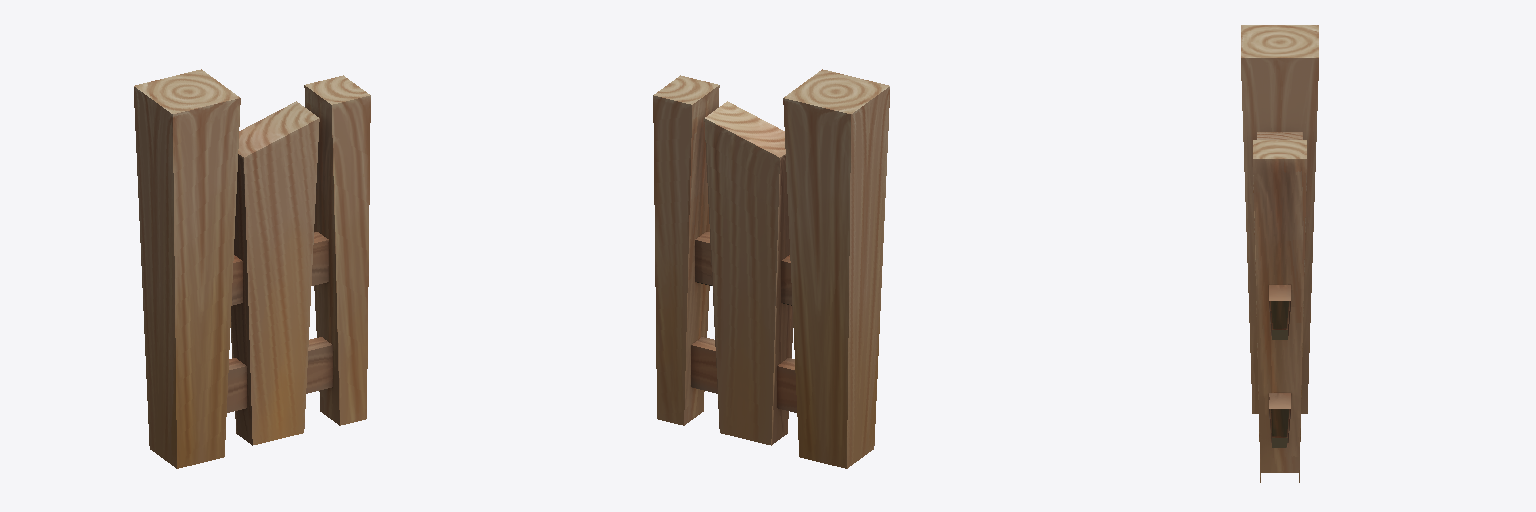
3 renders of one model, left to right at view 1: azimuth 30°, elevation 25°; view 2: azimuth 150°, elevation 25°; view 3: azimuth 270°, elevation 25°, orthographic.
Parts seen in each view (by area): view 1: fence2_end; view 2: fence2_end; view 3: fence2_end.
Boxes of the visible parts, x1,y1,x2,y2 form: fence2_end: [134, 69, 370, 468]; fence2_end: [653, 69, 889, 468]; fence2_end: [1241, 25, 1318, 482].
Size of the model in its own units: 30.25 by 50.83 by 10.
1 materials, 1 textured.